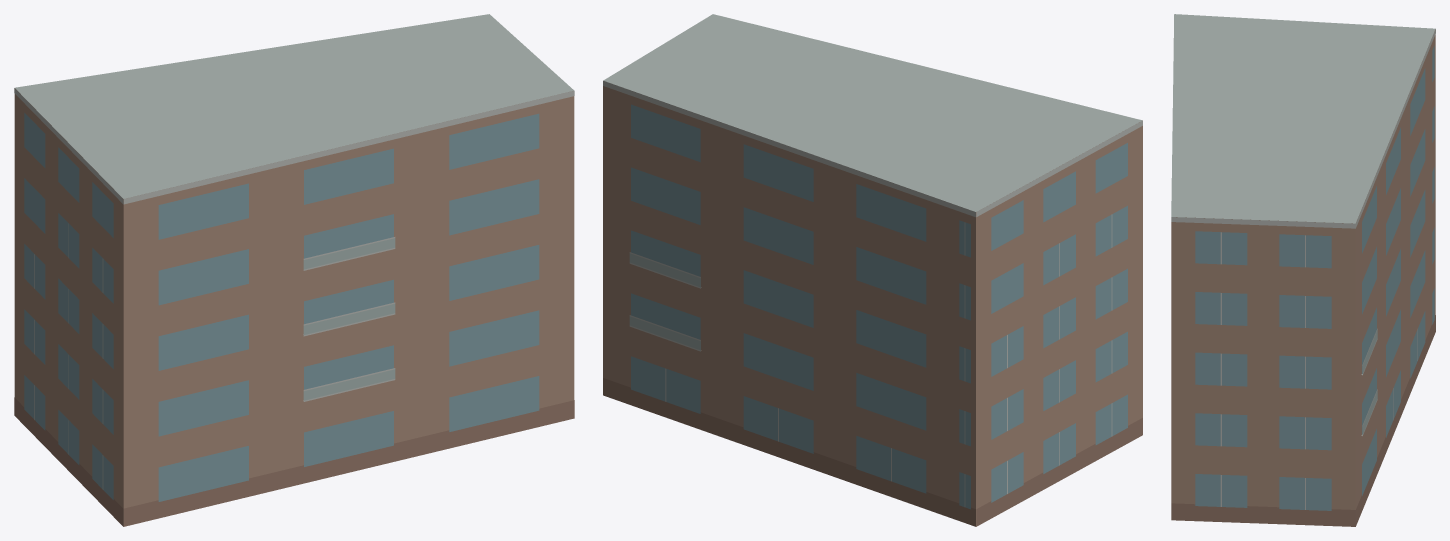
Rendered from survey-upis-32746919.glb.
3 renders of one model, left to right at view 1: azimuth 30°, elevation 25°; view 2: azimuth 150°, elevation 25°; view 3: azimuth 270°, elevation 25°, orthographic. The views are drawn at different scales.
Visible parts, largest first — view 1: survey-upis-32746919.tmp; view 2: survey-upis-32746919.tmp; view 3: survey-upis-32746919.tmp.
Boxes of the visible parts, x1=… form: survey-upis-32746919.tmp: x1=14, y1=14, x2=574, y2=526; survey-upis-32746919.tmp: x1=603, y1=14, x2=1142, y2=526; survey-upis-32746919.tmp: x1=1171, y1=14, x2=1435, y2=526.
Size of the model in its own units: 21.57 by 14.55 by 11.51.
